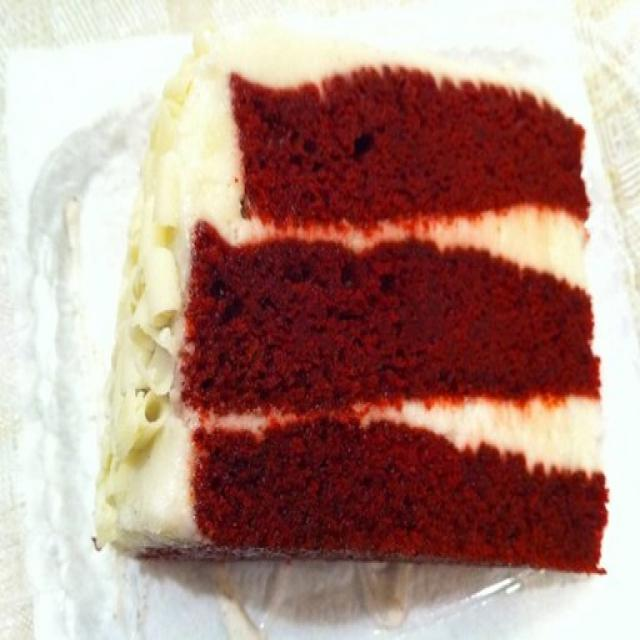Food -Biodegradable-: (89, 30, 608, 572)
